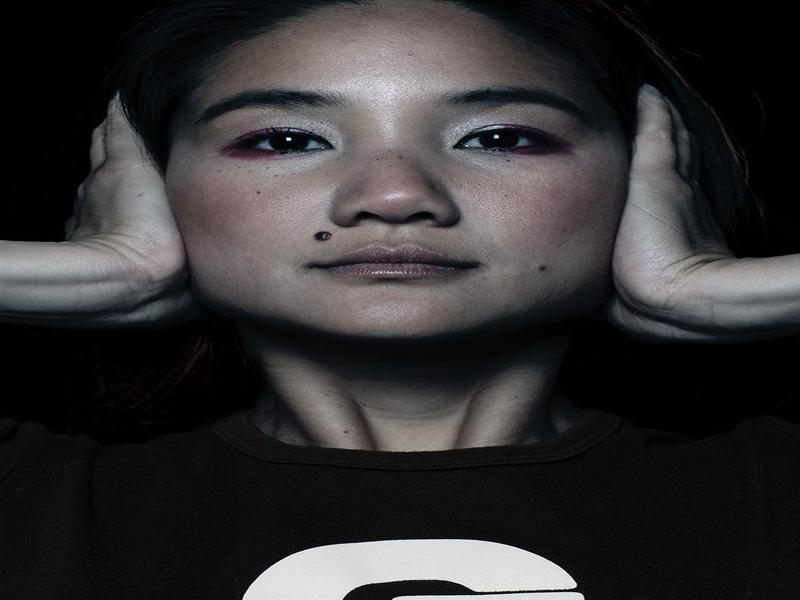person: (7, 1, 777, 598)
